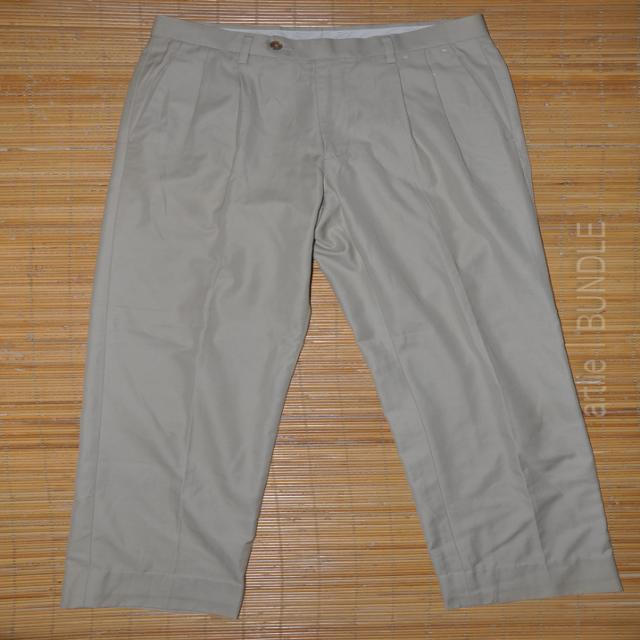long-pants: (70, 14, 622, 614)
